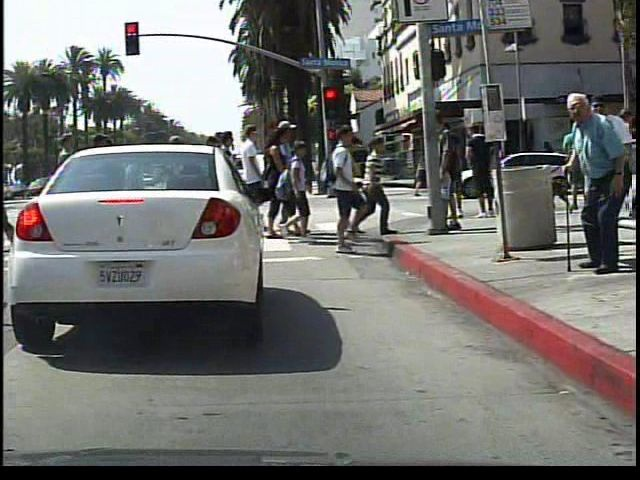person: (541, 96, 631, 283), (404, 138, 425, 200)
